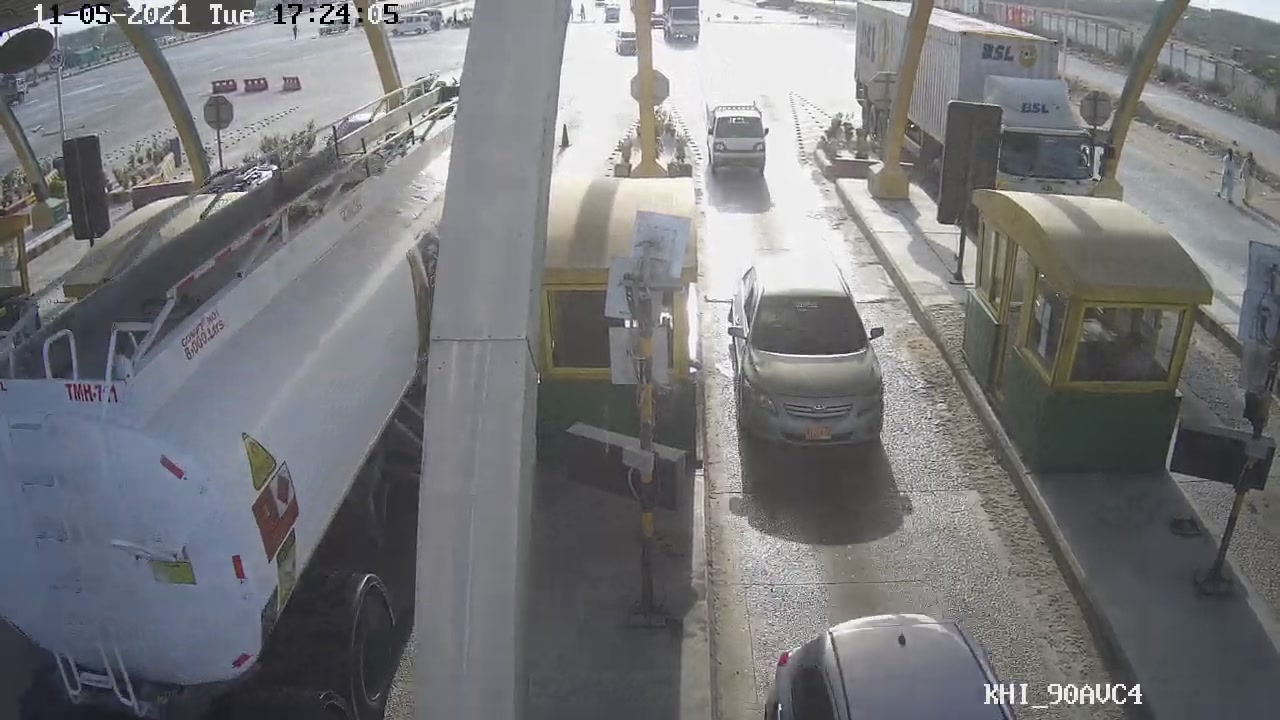F1: (726, 264, 893, 459), (684, 80, 793, 192)
